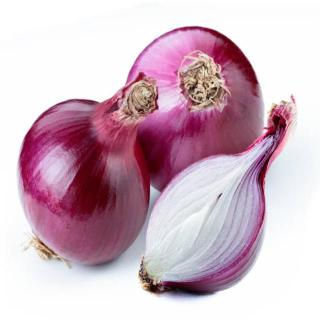Bawang Merah: (13, 71, 161, 269), (123, 24, 270, 198)
